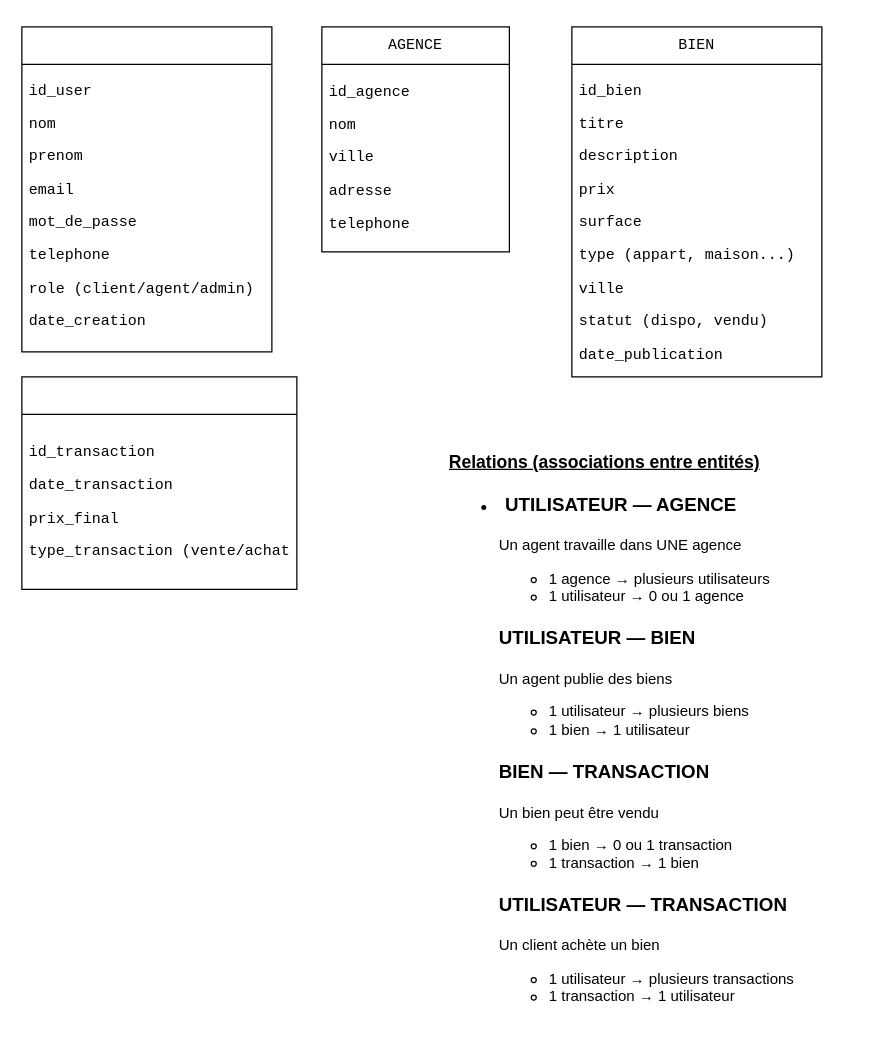
Image size: 881x1051. Some labels were removed from this diagram. Each missing label, with the box of its shape:
TRANSACTIONS: (21, 376, 297, 589)
UTILISATEURS: (21, 26, 272, 352)
